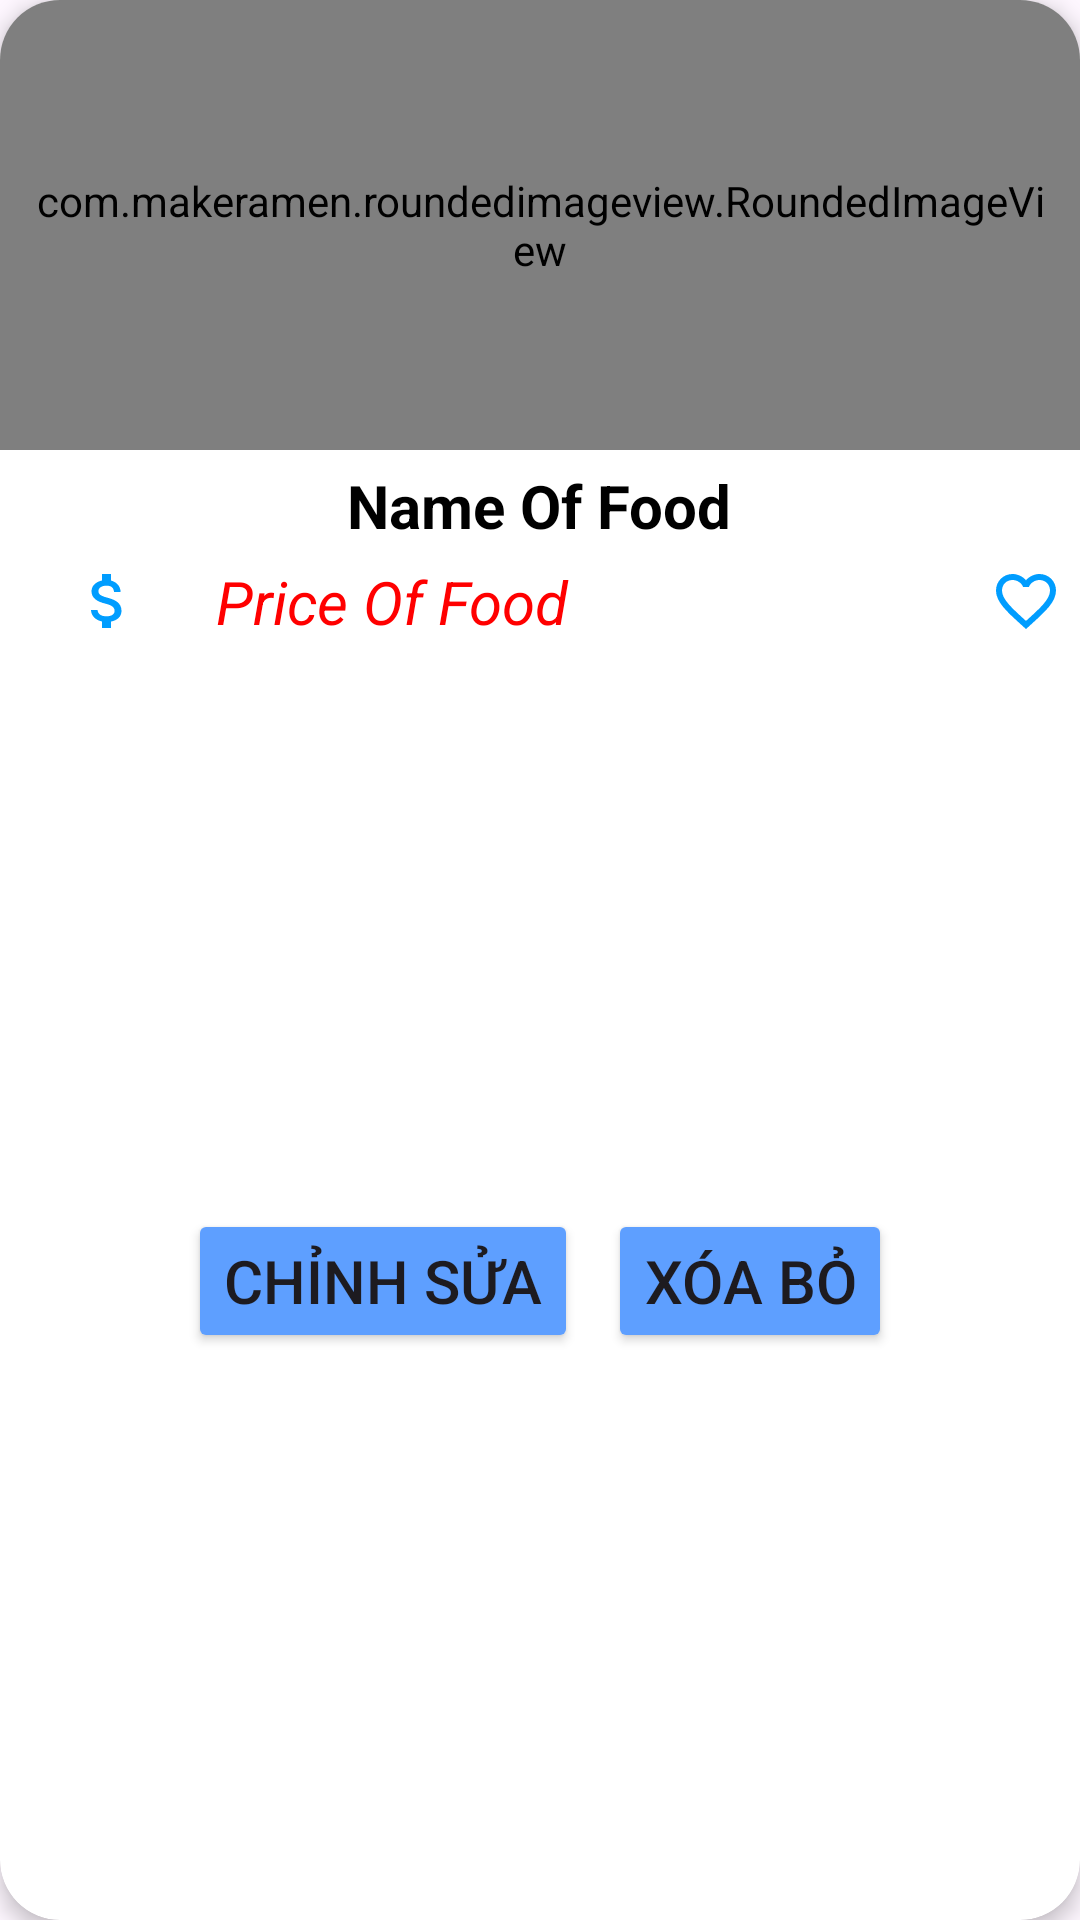

Icon click points for this 1080x1920 phone screenshot, format (x,y):
attach money: (106,601)
favorite border: (1026,601)
